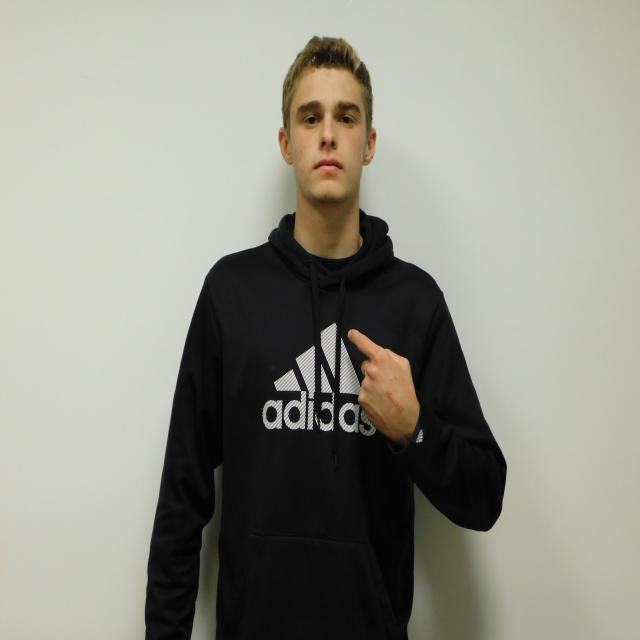I: (348, 329, 418, 442)
